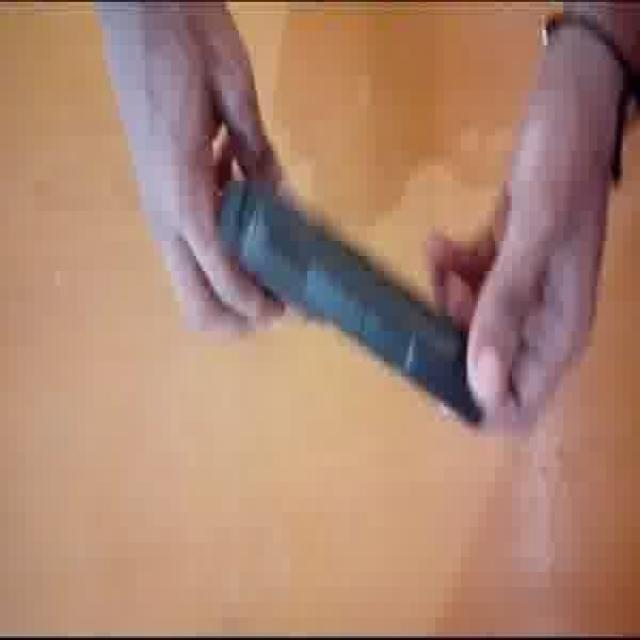weapon: (210, 118, 485, 424)
